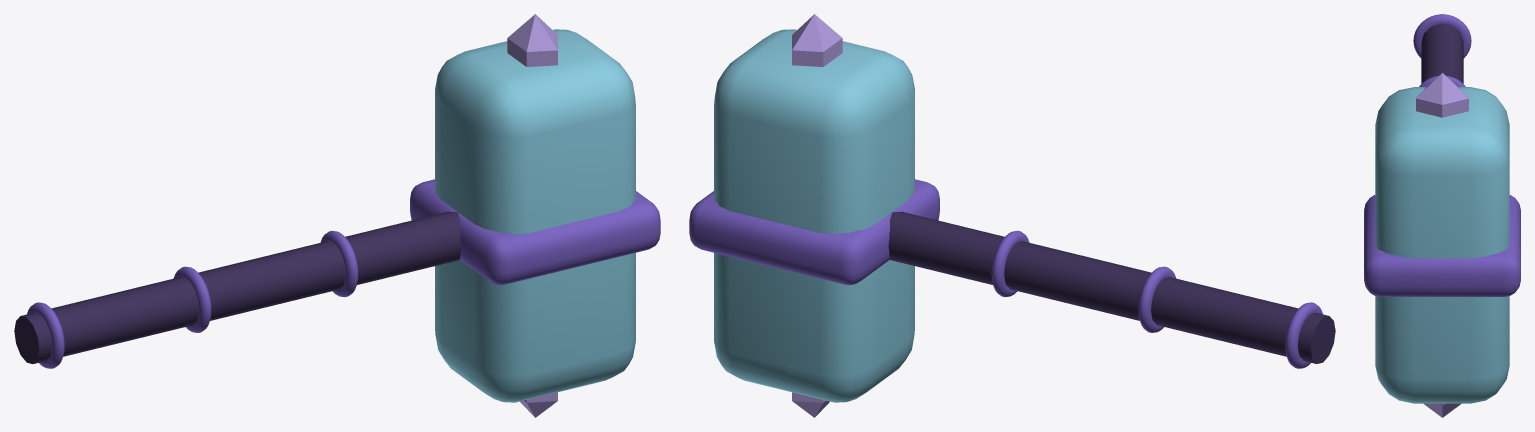
Rendered from wpn_crystalhammer.glb.
The picture shows the model from 3 angles, left to right: view 1: azimuth 30°, elevation 25°; view 2: azimuth 150°, elevation 25°; view 3: azimuth 270°, elevation 25°; orthographic projection. The views are drawn at different scales.
Parts seen in each view (by area): view 1: object 1, crystal.001, torus.002, torus.001, torus; view 2: object 1, crystal.001, torus.002, torus.001, torus; view 3: object 1, crystal.001, torus, crystal, torus.001.
Part boxes in pixels (box(x1,y1,x2,y2)): object 1: box(14, 29, 660, 402); crystal.001: box(507, 14, 557, 66); torus.002: box(320, 230, 358, 297); torus.001: box(173, 266, 211, 332); torus: box(27, 302, 64, 368); object 1: box(689, 29, 1335, 402); crystal.001: box(792, 14, 842, 66); torus.002: box(991, 230, 1029, 297); torus.001: box(1138, 266, 1176, 332); torus: box(1285, 302, 1322, 368); object 1: box(1364, 14, 1520, 403); crystal.001: box(1416, 73, 1468, 117); torus: box(1413, 14, 1471, 58); crystal: box(1423, 403, 1461, 417); torus.001: box(1419, 75, 1465, 86).
Size of the model in its own units: 1.31 by 0.85 by 0.35.
